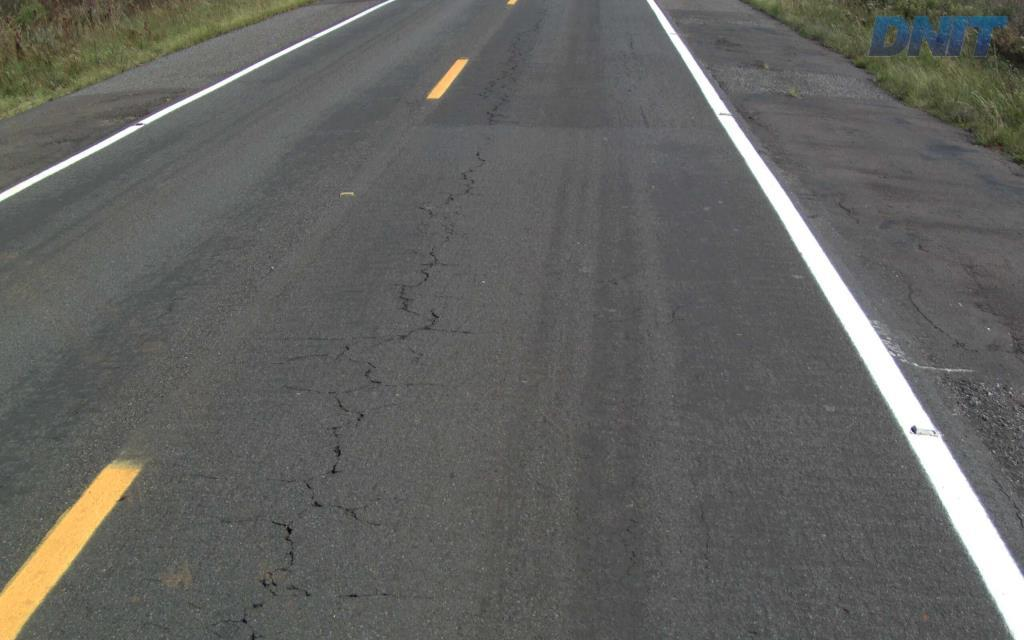crack: (205, 607, 248, 639), (271, 519, 296, 573)
